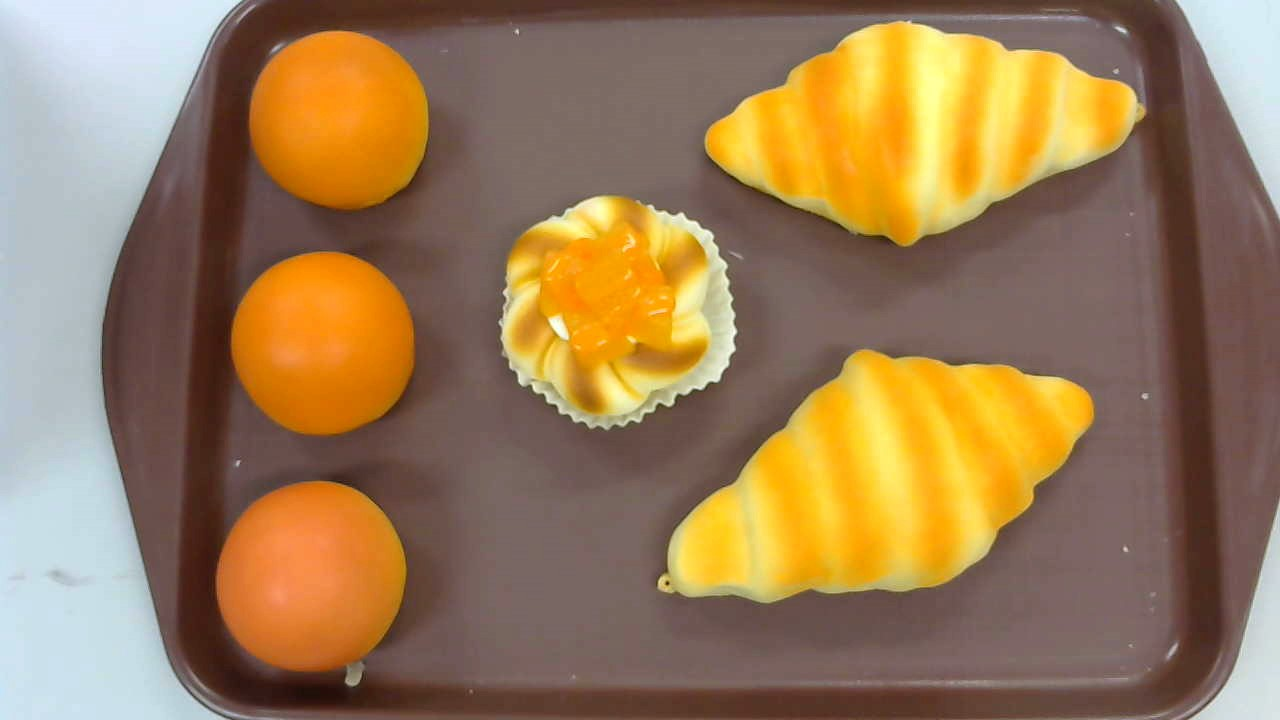bun: (216, 480, 407, 672), (230, 251, 415, 436), (249, 30, 429, 211)
croissant: (656, 349, 1096, 604), (704, 21, 1146, 249)
mango tart: (498, 195, 740, 433)
